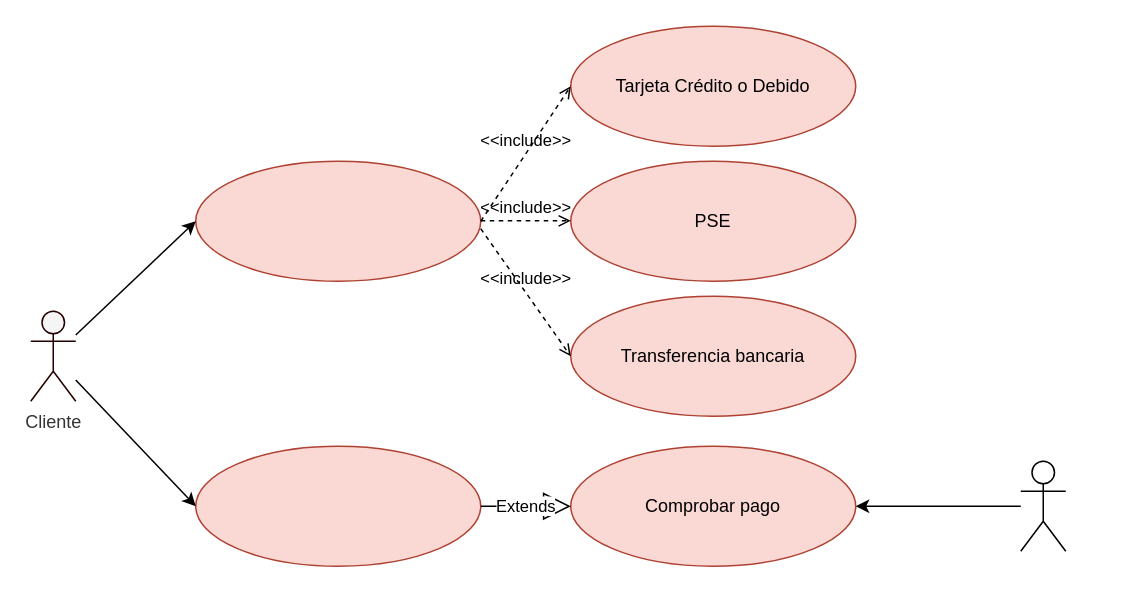
The diagram is 1137 pixels wide and 609 high, and some of its shapes have lost their labels. The shapes that lost their labels are listed below. From the top down, each one's centre as x and y in pixels, then its label:
At (337,220): "Seleccionar medio de pago".
At (337,505): "Realizar pago".
At (1042,505): "Entidad bancaria".
